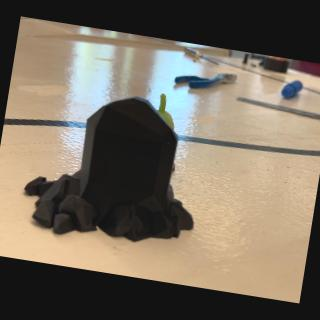teletubby: (157, 94, 174, 130)
